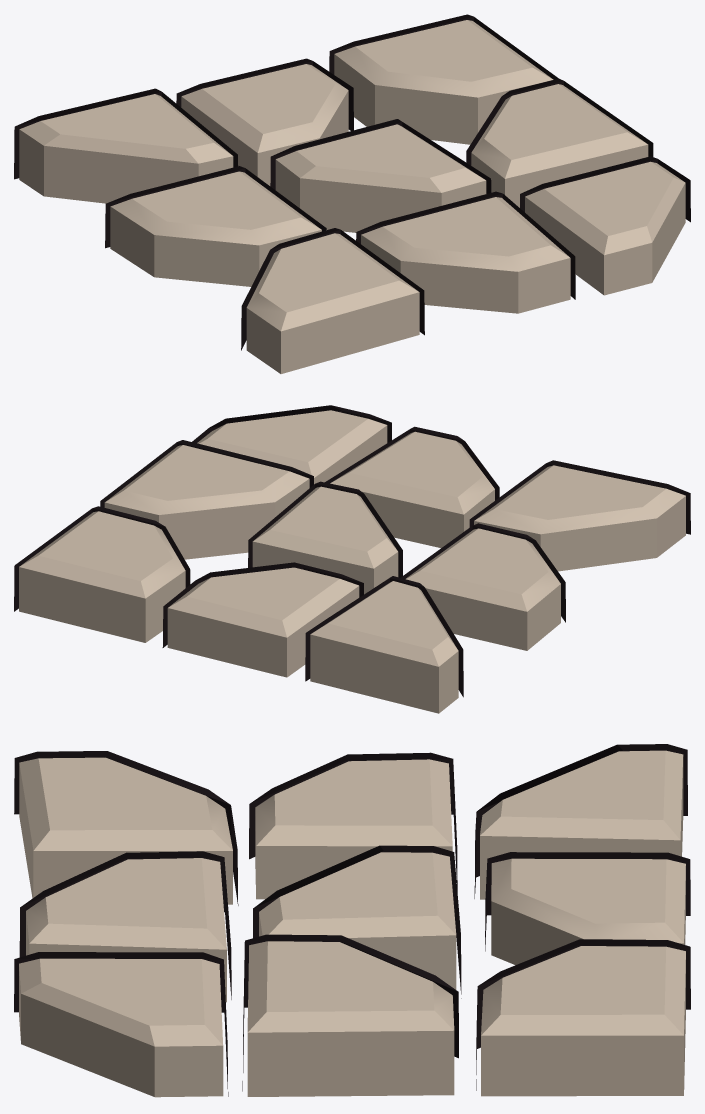
File: SM_RoadTile_06.fbx
3 renders of one model, top to bottom at view 1: azimuth 30°, elevation 25°; view 2: azimuth 150°, elevation 25°; view 3: azimuth 270°, elevation 25°, orthographic. The views are drawn at different scales.
Parts seen in each view (by area): view 1: SM_RoadTile_06; view 2: SM_RoadTile_06; view 3: SM_RoadTile_06.
Part boxes in pixels (<box>): SM_RoadTile_06: <box>14,14,690,373</box>; SM_RoadTile_06: <box>14,405,690,713</box>; SM_RoadTile_06: <box>14,744,690,1097</box>.
Size of the model in its own units: 0.9828 by 0.1321 by 0.9787.
